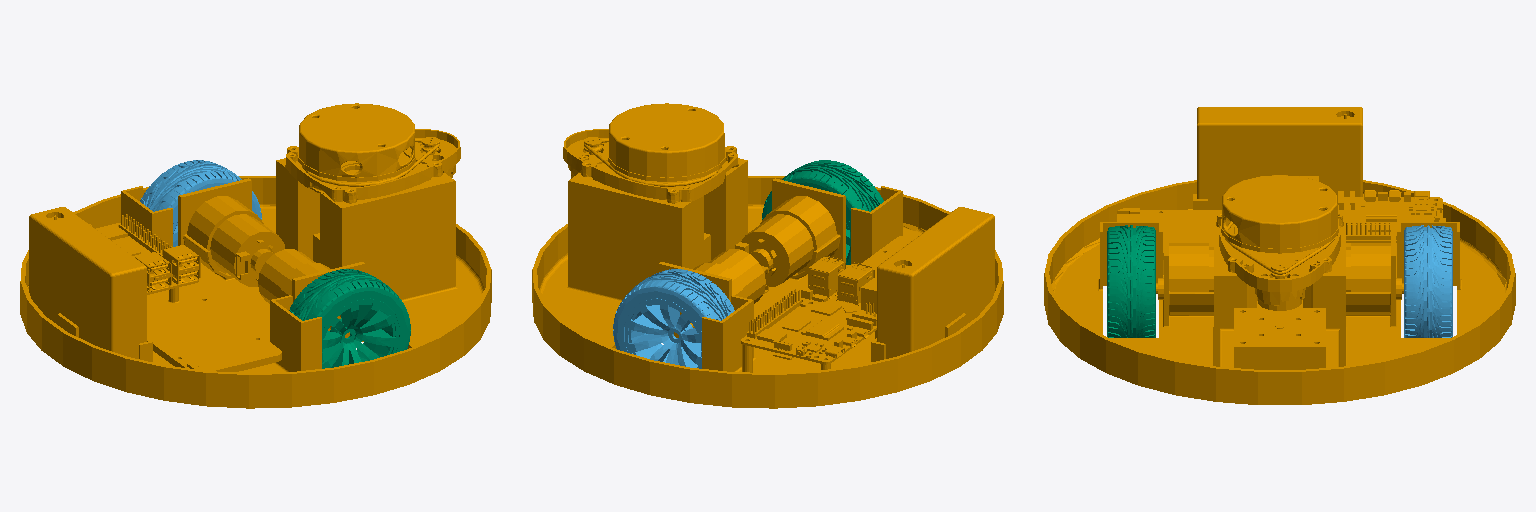
URDF robot description (generated_robot):
<?xml version='1.0' encoding='utf-8'?>
<robot name="generated_robot">
  <link name="base_link">
    <inertial>
      <!-- xyz="-0.010522906 -0.0011715762 0.019525838" -->
      <origin xyz="0.03 -0.0011715762 0.019525838" rpy="0 0 0" />
      <mass value="0.67072969" />
      <inertia ixx="0.0017367242" iyy="0.003945797" izz="0.0050959838" ixy="-1.6526245e-05" ixz="6.1935945e-05" iyz="-9.7066429e-06" />
    </inertial>
    <visual>
      <origin xyz="0.038079715 0.10327397 0.070002196" rpy="0 0 0" />
      <geometry>
        <mesh filename="package://robot_description/meshes/part_001_RaspberryPi5.step.stl" scale="0.001 0.001 0.001" />
      </geometry>
    </visual>
    <visual>
      <origin xyz="0.038079715 0.10327397 0.070002196" rpy="0 0 0" />
      <geometry>
        <mesh filename="package://robot_description/meshes/part_002_520_.step.stl" scale="0.001 0.001 0.001" />
      </geometry>
    </visual>
    <visual>
      <origin xyz="0.038079715 0.10327397 0.070002196" rpy="0 0 0" />
      <geometry>
        <mesh filename="package://robot_description/meshes/part_003_520_.step.stl" scale="0.001 0.001 0.001" />
      </geometry>
    </visual>
    <visual>
      <origin xyz="0.038079715 0.10327397 0.070002196" rpy="0 0 0" />
      <geometry>
        <mesh filename="package://robot_description/meshes/part_004_control_broad.stl" scale="0.001 0.001 0.001" />
      </geometry>
    </visual>
    <visual>
      <origin xyz="0.038079715 0.10327397 0.070002196" rpy="0 0 0" />
      <geometry>
        <mesh filename="package://robot_description/meshes/part_005_part.stl" scale="0.001 0.001 0.001" />
      </geometry>
    </visual>
    <visual>
      <origin xyz="0.038079715 0.10327397 0.070002196" rpy="0 0 0" />
      <geometry>
        <mesh filename="package://robot_description/meshes/part_006_X3_.stp.stl" scale="0.001 0.001 0.001" />
      </geometry>
    </visual>
    <visual>
      <origin xyz="0.038079715 0.10327397 0.070002196" rpy="0 0 0" />
      <geometry>
        <mesh filename="package://robot_description/meshes/part_009_battery.stl" scale="0.001 0.001 0.001" />
      </geometry>
    </visual>
    <visual>
      <origin xyz="0.038079715 0.10327397 0.070002196" rpy="0 0 0" />
      <geometry>
        <mesh filename="package://robot_description/meshes/part_011_part.stl" scale="0.001 0.001 0.001" />
      </geometry>
    </visual>
    <visual>
      <origin xyz="0.038079715 0.10327397 0.070002196" rpy="0 0 0" />
      <geometry>
        <mesh filename="package://robot_description/meshes/part_012_part.stl" scale="0.001 0.001 0.001" />
      </geometry>
    </visual>
    <collision>
      <origin xyz="0.038079715 0.10327397 0.070002196" rpy="0 0 0" />
      <geometry>
        <mesh filename="package://robot_description/meshes/part_001_RaspberryPi5.step.stl" scale="0.001 0.001 0.001" />
      </geometry>
    </collision>
    <collision>
      <origin xyz="0.038079715 0.10327397 0.070002196" rpy="0 0 0" />
      <geometry>
        <mesh filename="package://robot_description/meshes/part_002_520_.step.stl" scale="0.001 0.001 0.001" />
      </geometry>
    </collision>
    <collision>
      <origin xyz="0.038079715 0.10327397 0.070002196" rpy="0 0 0" />
      <geometry>
        <mesh filename="package://robot_description/meshes/part_003_520_.step.stl" scale="0.001 0.001 0.001" />
      </geometry>
    </collision>
    <collision>
      <origin xyz="0.038079715 0.10327397 0.070002196" rpy="0 0 0" />
      <geometry>
        <mesh filename="package://robot_description/meshes/part_004_control_broad.stl" scale="0.001 0.001 0.001" />
      </geometry>
    </collision>
    <collision>
      <origin xyz="0.038079715 0.10327397 0.070002196" rpy="0 0 0" />
      <geometry>
        <mesh filename="package://robot_description/meshes/part_005_part.stl" scale="0.001 0.001 0.001" />
      </geometry>
    </collision>
    <collision>
      <origin xyz="0.038079715 0.10327397 0.070002196" rpy="0 0 0" />
      <geometry>
        <mesh filename="package://robot_description/meshes/part_006_X3_.stp.stl" scale="0.001 0.001 0.001" />
      </geometry>
    </collision>
    <collision>
      <origin xyz="0.038079715 0.10327397 0.070002196" rpy="0 0 0" />
      <geometry>
        <mesh filename="package://robot_description/meshes/part_009_battery.stl" scale="0.001 0.001 0.001" />
      </geometry>
    </collision>
    <collision>
      <origin xyz="0.038079715 0.10327397 0.070002196" rpy="0 0 0" />
      <geometry>
        <mesh filename="package://robot_description/meshes/part_011_part.stl" scale="0.001 0.001 0.001" />
      </geometry>
    </collision>
    <collision>
      <origin xyz="0.038079715 0.10327397 0.070002196" rpy="0 0 0" />
      <geometry>
        <mesh filename="package://robot_description/meshes/part_012_part.stl" scale="0.001 0.001 0.001" />
      </geometry>
    </collision>
  </link>
  <link name="left_link">
    <inertial>
      <origin xyz="9.7537179e-08 4.1996322e-08 -4.8774567e-06" rpy="0 0 0" />
      <mass value="0.07225202" />
      <inertia ixx="3.0254025e-05" iyy="3.0264603e-05" izz="5.283939e-05" ixy="3.355744e-09" ixz="2.8399642e-12" iyz="1.6015864e-12" />
    </inertial>
    <visual>
      <origin xyz="0.0270022 -0.057502196 0.022999996" rpy="1.5707963 0 0" />
      <geometry>
        <mesh filename="package://robot_description/meshes/part_007_.step.stl" scale="0.001 0.001 0.001" />
      </geometry>
    </visual>
    <collision>
      <origin xyz="0 0 0" rpy="0 0 0" />
      <geometry>
        <cylinder radius="0.0345" length="0.0265" />
      </geometry>
    </collision>
  </link>
  <link name="right_link">
    <inertial>
      <origin xyz="-4.8209846e-08 -9.3989017e-08 0.014995121" rpy="0 0 0" />
      <mass value="0.072252013" />
      <inertia ixx="3.0255037e-05" iyy="3.0263581e-05" izz="5.2839384e-05" ixy="-4.5783786e-09" ixz="-1.1727931e-12" iyz="-3.0191625e-12" />
    </inertial>
    <visual>
      <origin xyz="0.0270022 0.057502196 -0.17" rpy="-1.5707963 0 0" />
      <geometry>
        <mesh filename="package://robot_description/meshes/part_008_.step.stl" scale="0.001 0.001 0.001" />
      </geometry>
    </visual>
    <collision>
      <origin xyz="0 0 0" rpy="0 0 0" />
      <geometry>
        <cylinder radius="0.0345" length="0.0265" />
      </geometry>
    </collision>
  </link>
  <link name="uni_link">
    <inertial>
      <origin xyz="-1.1099766e-10 0 -0.0054999999" rpy="0 0 0" />
      <mass value="0.0042027826" />
      <inertia ixx="1.5078014e-07" iyy="1.5078014e-07" izz="1.9724506e-07" ixy="0" ixz="0" iyz="0" />
    </inertial>
    <visual>
      <origin xyz="-0.031667627 0.082002196 -0.10796243" rpy="-1.5707963 0.038450944 0" />
      <geometry>
        <mesh filename="package://robot_description/meshes/part_010_-.stl" scale="0.001 0.001 0.001" />
      </geometry>
    </visual>
    <collision>
      <origin xyz="-0.031667627 0.082002196 -0.10796243" rpy="-1.5707963 0.038450944 0" />
      <geometry>
        <mesh filename="package://robot_description/meshes/part_010_-.stl" scale="0.001 0.001 0.001" />
      </geometry>
    </collision>
  </link>
  <!-- 轮子必须用 continuous: revolute 的 ±2π 限位跑 0.216 m(2πr) 就会卡死,
       仿真里表现为"走一小段就停". 实车/RViz 不受影响 -->
  <joint name="left_joint" type="continuous">
    <origin xyz="0.011077515 0.080273973 0.0125" rpy="-1.5707963 0 0" />
    <parent link="base_link" />
    <child link="left_link" />
    <axis xyz="0 0 1" />
    <limit effort="10" velocity="30" />
  </joint>
  <joint name="right_joint" type="continuous">
    <origin xyz="0.011077515 -0.066726027 0.0125" rpy="1.5707963 0 0" />
    <parent link="base_link" />
    <child link="right_link" />
    <!-- 右轮坐标系的 x 轴相对 base_link 转了 +90 度(镜像安装),
         所以它的转轴在自身坐标系里是 -z, 转到 base_link 下才是和左轮一致的 +y.
         如果这里写成 0 0 1, 差速插件给两轮同样的角速度时轮子会反转,
         表现为"里程计在前进, 车却在原地打转" -->
    <axis xyz="0 0 -1" />
    <limit effort="10" velocity="30" />
  </joint>
  <joint name="uni_joint" type="continuous">
    <origin xyz="0.0655737 -0.0058260145 -0.012" rpy="1.5707963 0 -0.038450944" />
    <parent link="base_link" />
    <child link="uni_link" />
    <axis xyz="0 0 1" />
    <limit effort="10" velocity="30" />
  </joint>

  <!-- base_footprint 是机器人模型的根坐标系。运行时由里程计提供 odom 到它的变换。 -->
  <link name="base_footprint"/>
  <joint name="base_footprint_joint" type="fixed">
    <parent link="base_footprint"/>
    <child link="base_link"/>
    <origin xyz="0 0 0" rpy="0 0 0"/>
  </joint>
  
  <!-- 激光雷达坐标系: 单位 m, x 向前 / y 向左 / z 向上(相对 base_link)
       实测: 前方 5 cm, 左右居中, 扫描面高 8 cm -->
  <link name="laser"/>
  <joint name="laser_joint" type="fixed">
    <parent link="base_link"/>
    <child link="laser"/>
    <origin xyz="0.05 0 0.08" rpy="0 0 0"/>
  </joint>
</robot>

--- Render facts (derived) ---
3 views of the same robot in one strip: view 1: azimuth 30°, elevation 25°; view 2: azimuth 150°, elevation 25°; view 3: azimuth 270°, elevation 25° (orthographic).
Robot: generated_robot — 6 links, 5 joints (3 continuous, 2 fixed); root link base_footprint; default pose: all joints at 0.
Visible links, largest first — view 1: base_link, right_link, left_link; view 2: base_link, left_link, right_link; view 3: base_link, left_link, right_link.
Link boxes in pixels (box(x1,y1,x2,y2)): base_link: box(20, 103, 491, 408); right_link: box(289, 269, 410, 368); left_link: box(140, 160, 261, 246); base_link: box(532, 103, 1003, 408); left_link: box(613, 269, 734, 368); right_link: box(762, 160, 883, 264); base_link: box(1044, 107, 1515, 404); left_link: box(1404, 225, 1452, 337); right_link: box(1107, 225, 1155, 337).
Size in the robot's own frame: 0.2539 by 0.255 by 0.113 metres.
12 mesh visuals loaded from 12 distinct referenced files (12 binary STL).
